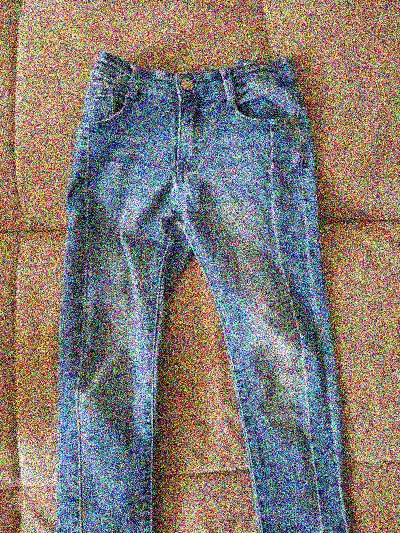Pants: (52, 47, 371, 530)
